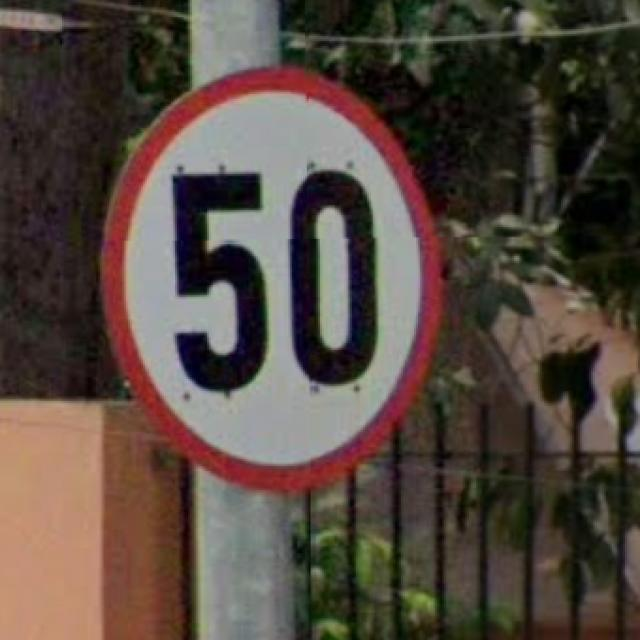50 kph: (100, 63, 440, 492)
